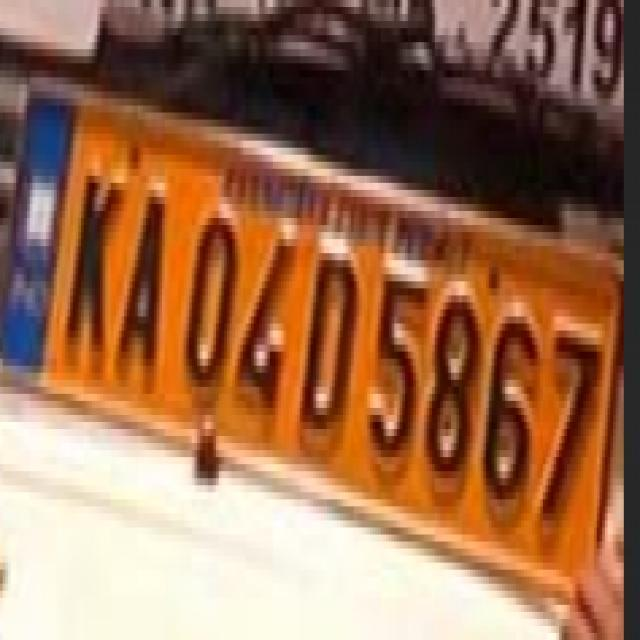0: (176, 193, 250, 403)
4: (224, 211, 307, 432)
5: (358, 245, 433, 488)
6: (475, 280, 550, 531)
7: (531, 290, 619, 545)
8: (420, 267, 488, 509)
A: (111, 173, 175, 398)
D: (289, 221, 367, 452)
